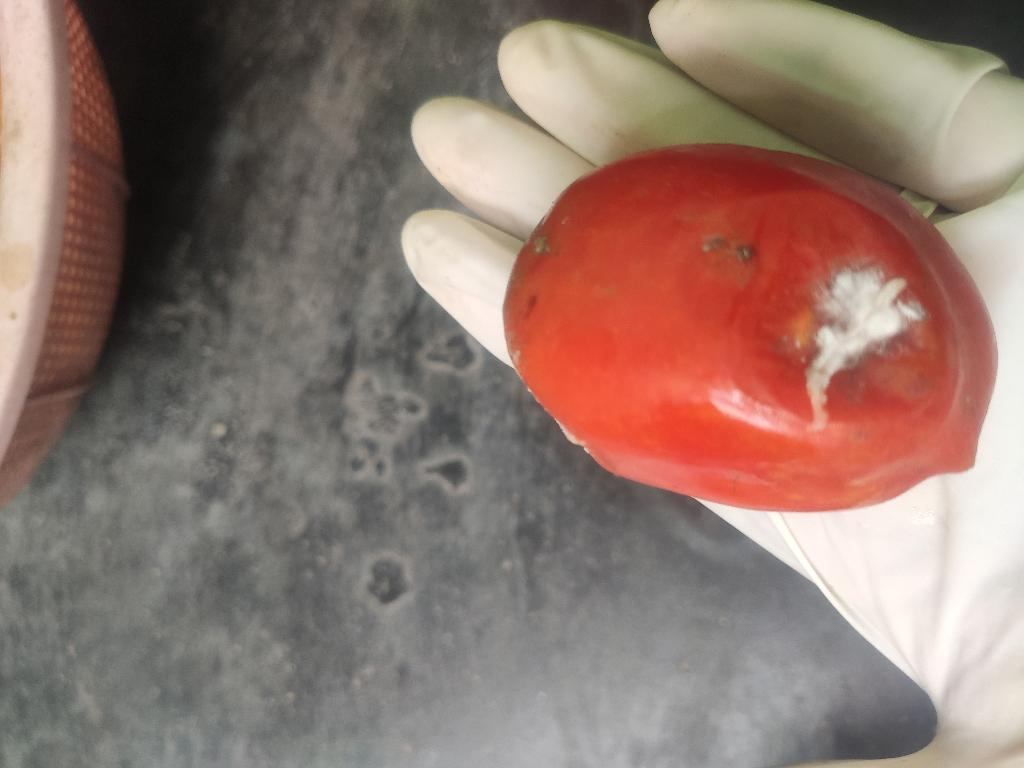bruise_discoloration: (723, 190, 961, 430)
rot_mold_decay: (805, 269, 925, 431)
surface_damage: (703, 236, 724, 252), (736, 245, 754, 261), (533, 236, 549, 253)
tomato: (506, 144, 998, 510)
